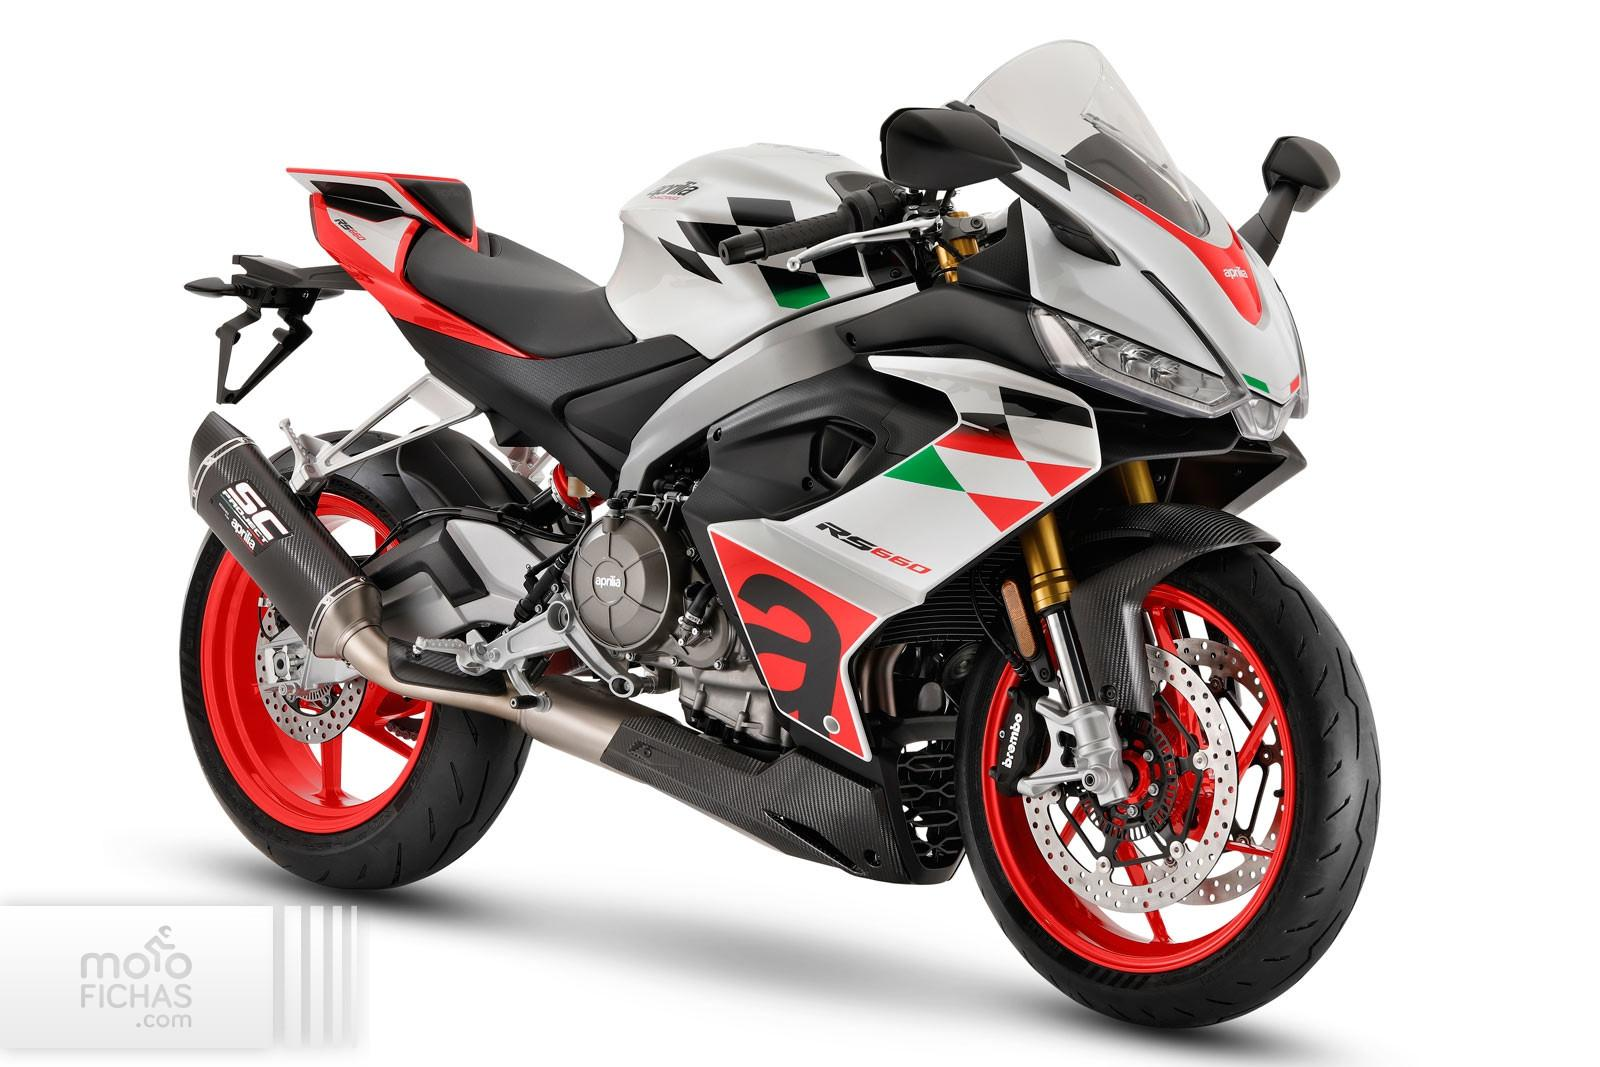engine-chasis: (412, 454, 965, 885)
exhaust: (188, 413, 673, 763), (852, 644, 907, 717)
frontside: (607, 40, 1310, 807)
handlebar: (880, 107, 1126, 264), (718, 170, 1008, 285), (1237, 136, 1340, 267)
motorbike: (181, 40, 1377, 1025)
rearside: (390, 313, 712, 500), (286, 167, 551, 360), (279, 370, 483, 514), (362, 506, 574, 643), (183, 252, 360, 404), (182, 252, 360, 403), (396, 429, 543, 510), (488, 435, 554, 486)
seat: (404, 227, 633, 356)
tank: (605, 142, 895, 363)
watermark: (0, 901, 365, 1052), (815, 522, 929, 572)
wheel: (954, 545, 1385, 1029), (179, 528, 532, 890), (317, 448, 576, 567), (969, 560, 1033, 685), (270, 445, 293, 479), (314, 431, 351, 444)
